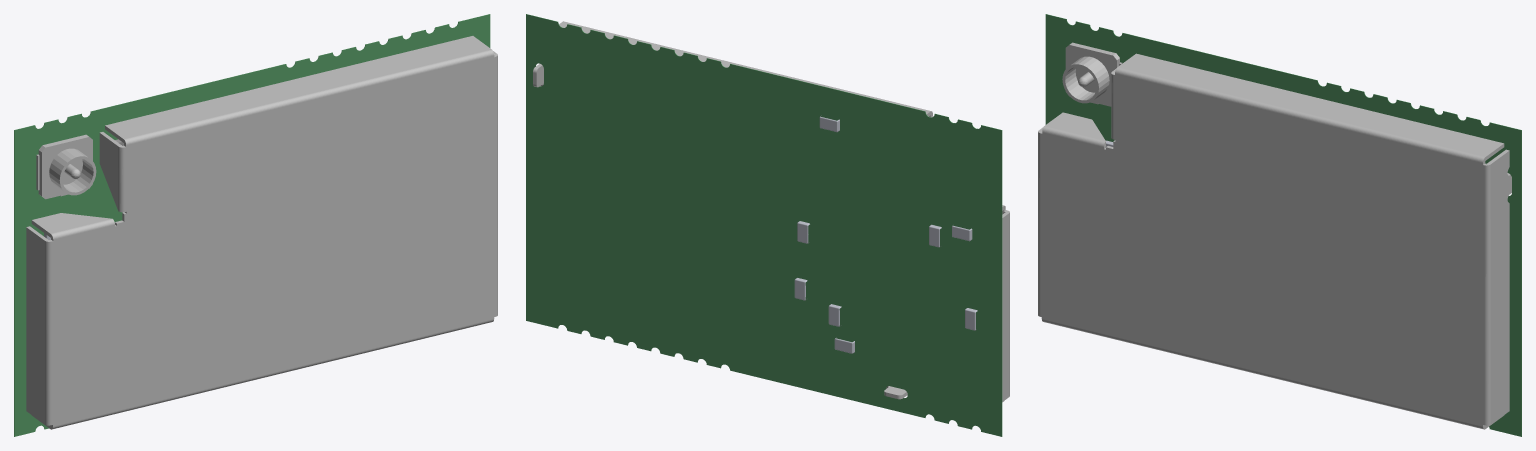
Rendered from lora.glb.
3 views of the same model, side by side, from view 1: azimuth 30°, elevation 25°; view 2: azimuth 150°, elevation 25°; view 3: azimuth 330°, elevation 25° (orthographic).
Visible parts, largest first — view 1: c5, c0; view 2: c0, c5, c4; view 3: c5, c0.
Boxes of the visible parts, x1,y1,x2,y2 form: c5: [26, 36, 497, 429]; c0: [14, 14, 490, 436]; c0: [526, 14, 1002, 436]; c5: [533, 21, 1009, 402]; c4: [794, 115, 977, 353]; c5: [1038, 42, 1511, 429]; c0: [1045, 14, 1521, 436].
Bounding box in the file's own units: 26 × 16 × 2.5.
